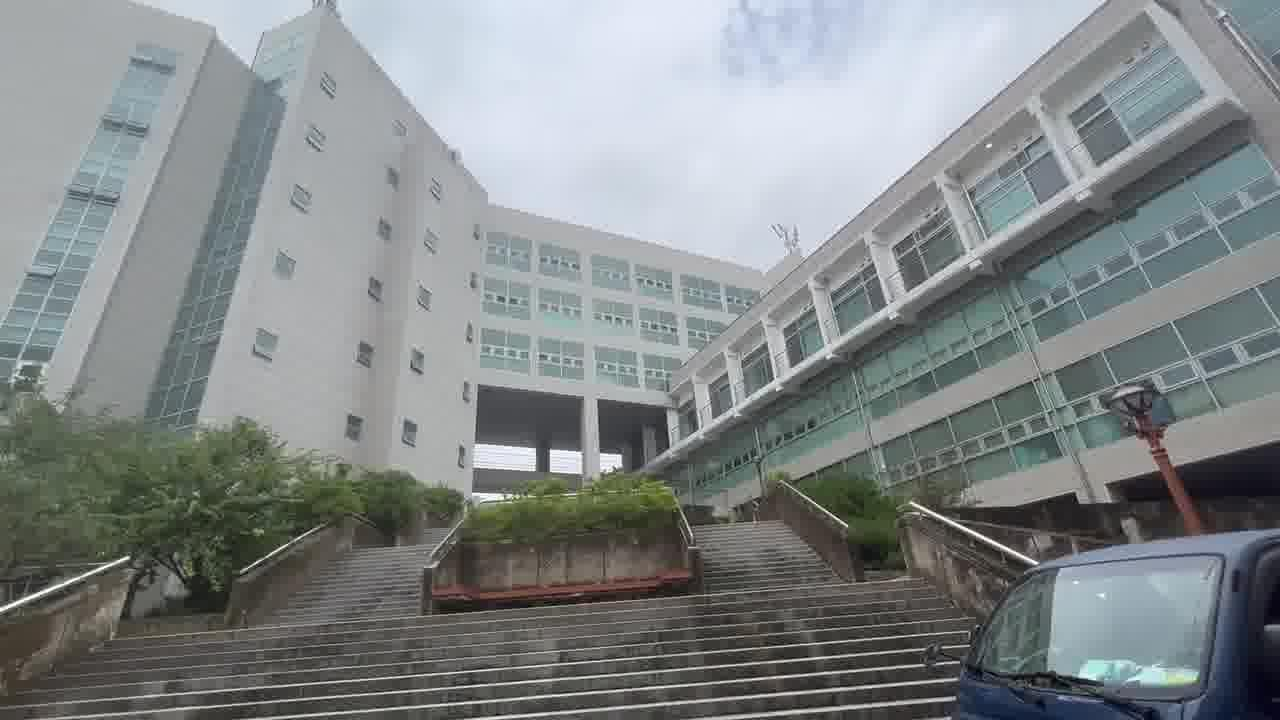building: (9, 57, 853, 411)
